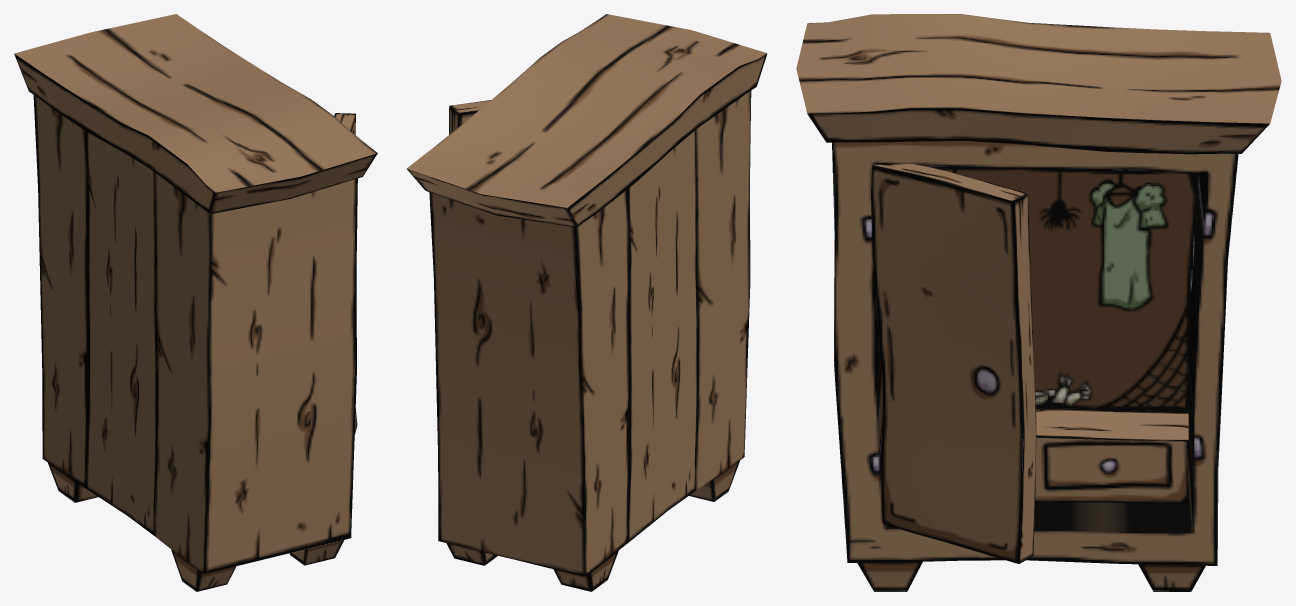
Rendered from szafa1_otwarta.fbx.
3 views of the same model, side by side, from view 1: azimuth 30°, elevation 25°; view 2: azimuth 150°, elevation 25°; view 3: azimuth 270°, elevation 25° (orthographic). The views are drawn at different scales.
Visible parts, largest first — view 1: szafa1 otwarta; view 2: szafa1 otwarta; view 3: szafa1 otwarta.
Part boxes in pixels (left/top/right/bottom): szafa1 otwarta: left=14, top=14, right=377, bottom=591; szafa1 otwarta: left=406, top=14, right=767, bottom=591; szafa1 otwarta: left=796, top=14, right=1281, bottom=591.
Size of the model in its own units: 133 by 235 by 209.
1 material, 1 textured.
